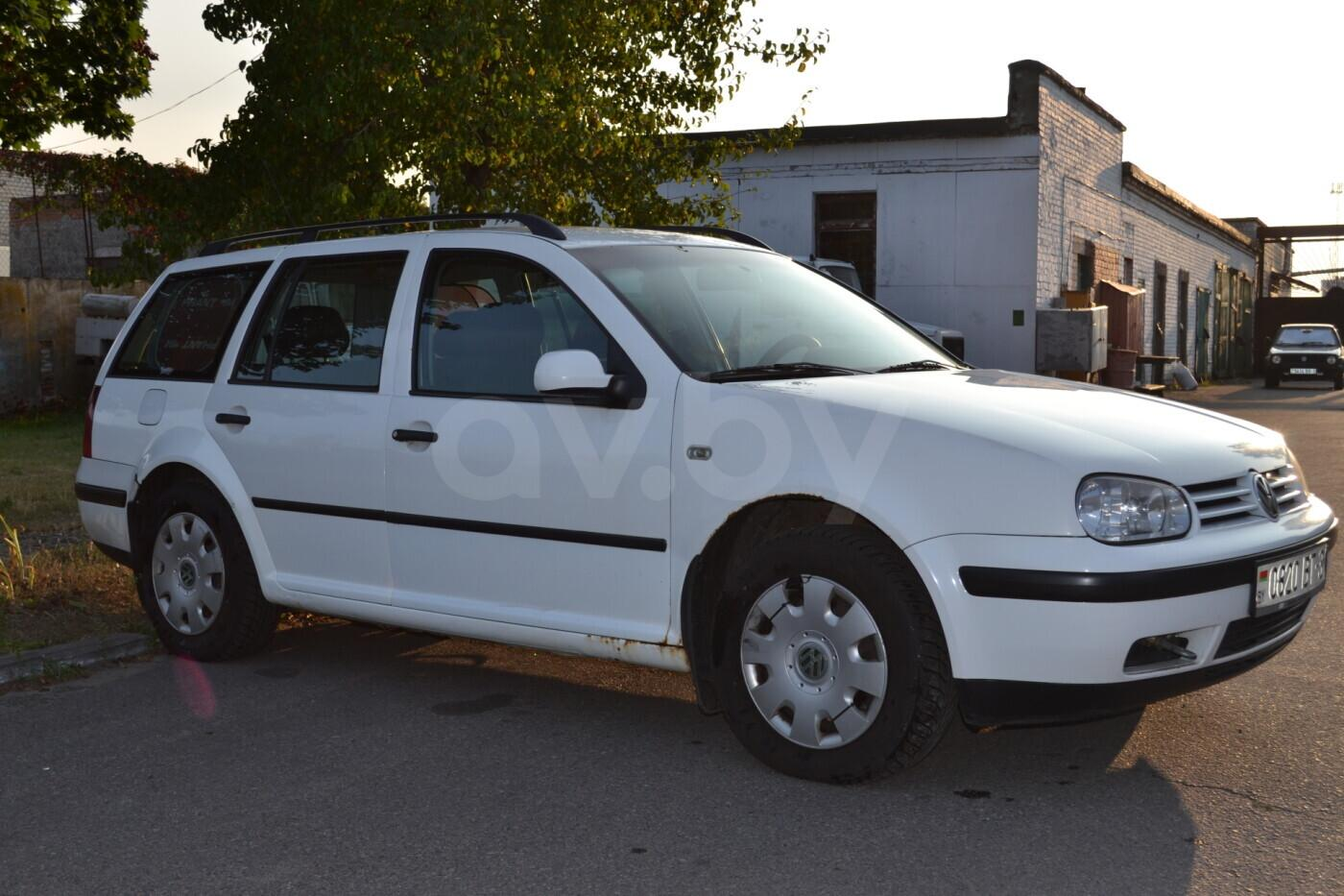Golf_1997-2006: (72, 210, 1341, 785)
